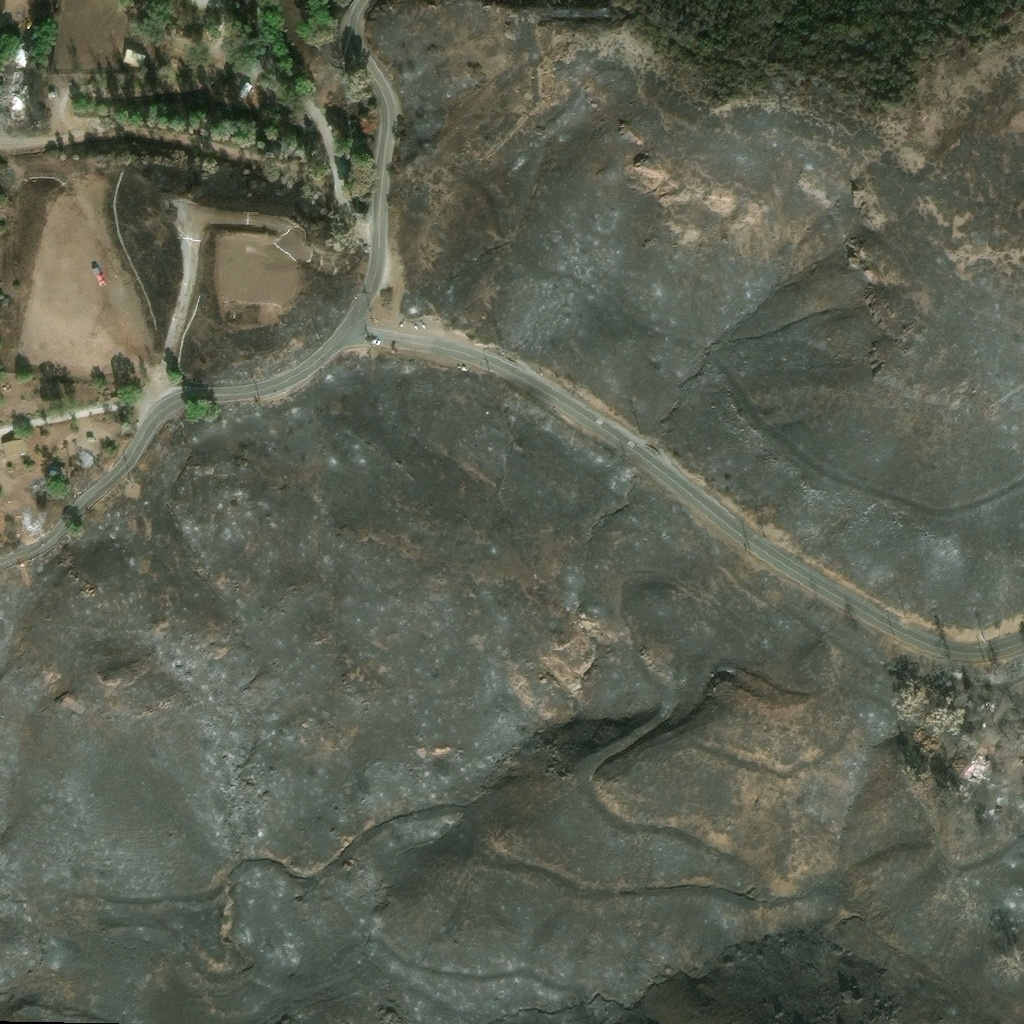0 no-damage: (123, 45, 145, 65), (237, 77, 254, 98), (168, 60, 185, 73)
3 destroyed: (962, 752, 991, 783), (11, 68, 25, 117), (2, 439, 25, 465), (32, 479, 51, 498), (75, 448, 94, 465), (17, 45, 30, 65), (0, 101, 8, 118), (26, 21, 35, 33)
